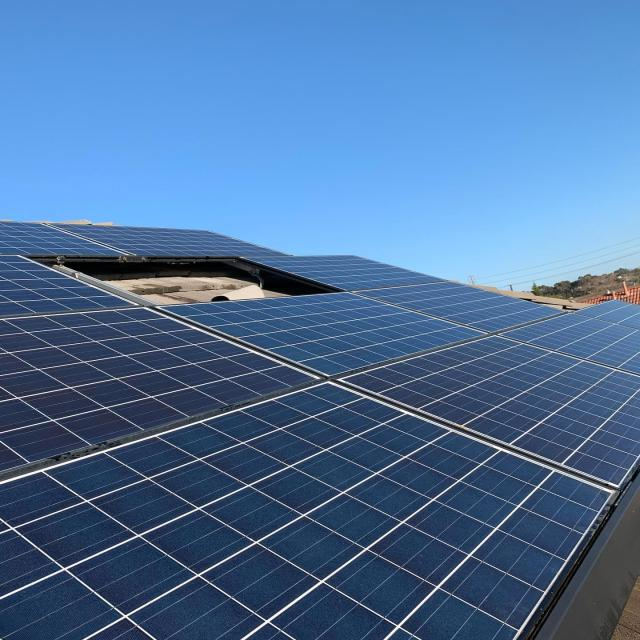clean-solar-panel: (1, 221, 639, 640)
